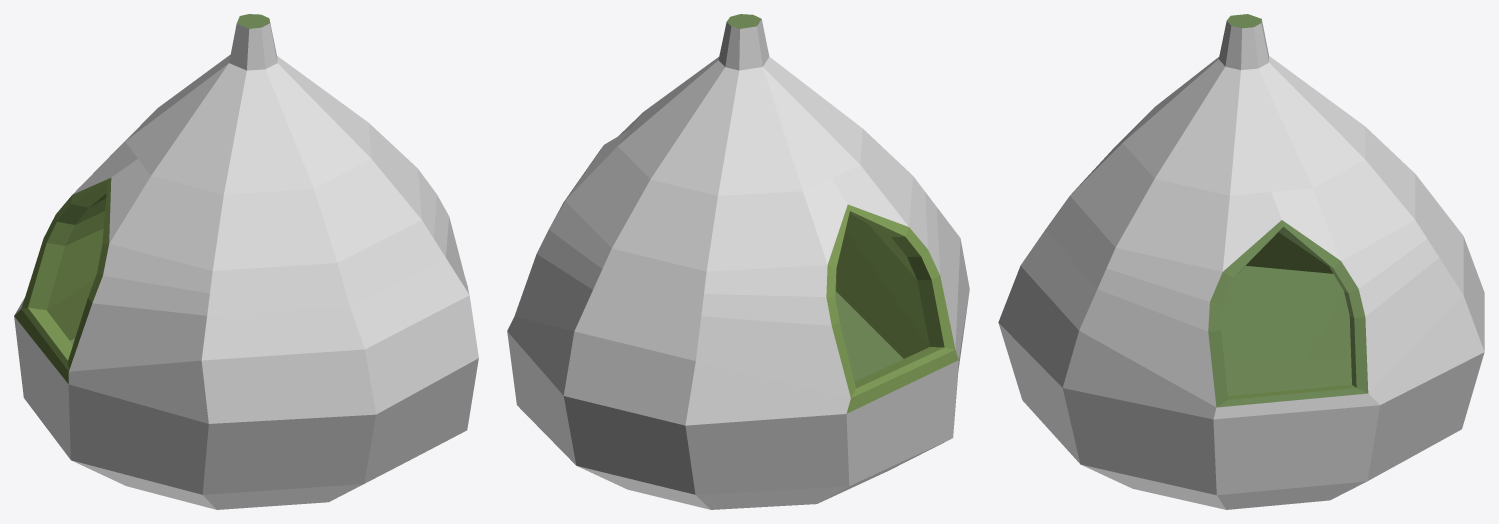
File: Ogres rlike Onions.fbx
3 renders of one model, left to right at view 1: azimuth 30°, elevation 25°; view 2: azimuth 150°, elevation 25°; view 3: azimuth 270°, elevation 25°, orthographic.
Visible parts, largest first — view 1: Onion1; view 2: Onion1; view 3: Onion1.
Part boxes in pixels (x1,y1,x2,y2): Onion1: (14,14,478,509); Onion1: (507,14,969,509); Onion1: (998,14,1484,509).
Size of the model in its own units: 116 by 130 by 122.
